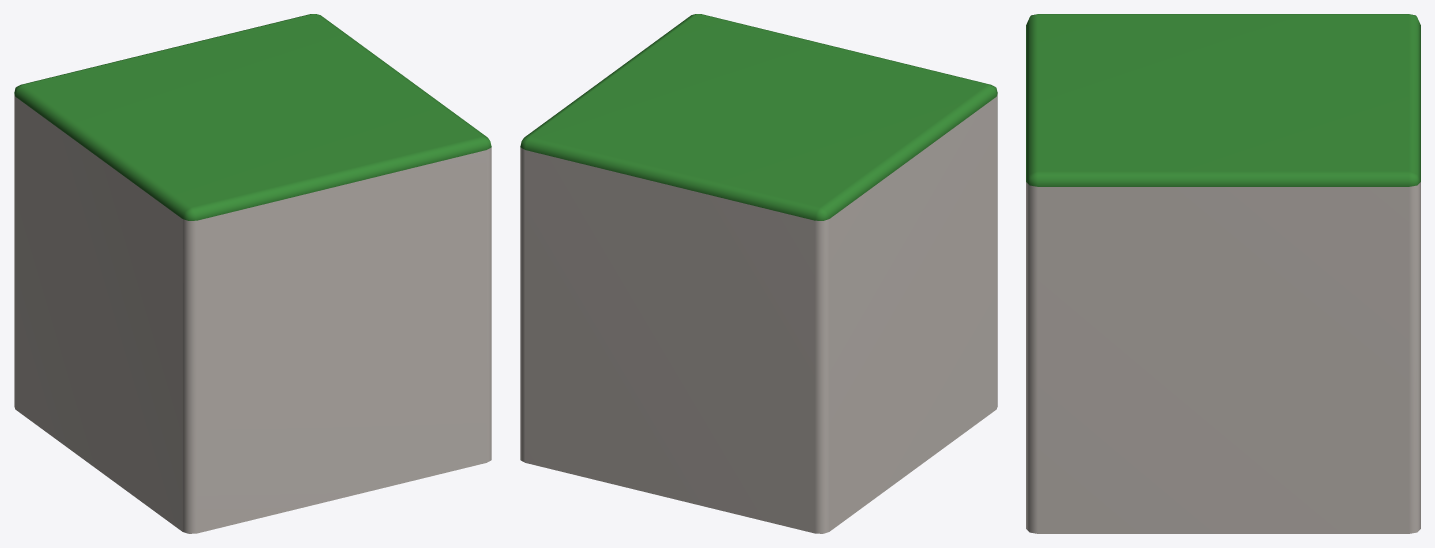
The model's file is cliff_4sided_small.fbx.
The picture shows the model from 3 angles, left to right: view 1: azimuth 30°, elevation 25°; view 2: azimuth 150°, elevation 25°; view 3: azimuth 270°, elevation 25°; orthographic projection. The views are drawn at different scales.
Visible parts, largest first — view 1: Cliff_04_Tiny; view 2: Cliff_04_Tiny; view 3: Cliff_04_Tiny.
Boxes of the visible parts, x1,y1,x2,y2 form: Cliff_04_Tiny: (14,14,491,533); Cliff_04_Tiny: (520,14,997,533); Cliff_04_Tiny: (1026,14,1420,533).
Bounding box in the file's own units: 100 × 100 × 100.
